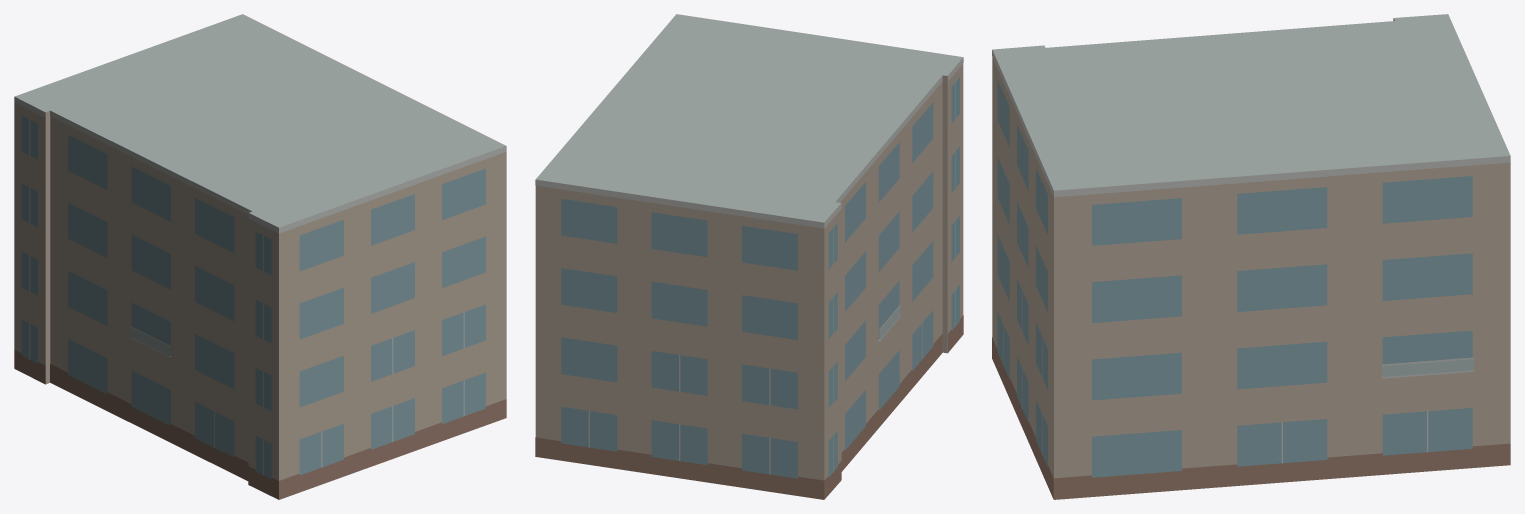
Rendered from survey-upis-32640329.glb.
The picture shows the model from 3 angles, left to right: view 1: azimuth 30°, elevation 25°; view 2: azimuth 150°, elevation 25°; view 3: azimuth 270°, elevation 25°; orthographic projection. The views are drawn at different scales.
Parts seen in each view (by area): view 1: survey-upis-32640329.tmp; view 2: survey-upis-32640329.tmp; view 3: survey-upis-32640329.tmp.
Part boxes in pixels (<box>): survey-upis-32640329.tmp: <box>14,14,506,499</box>; survey-upis-32640329.tmp: <box>535,14,963,499</box>; survey-upis-32640329.tmp: <box>992,14,1510,499</box>.
Bounding box in the file's own units: 13.98 × 11.4 × 17.34.
